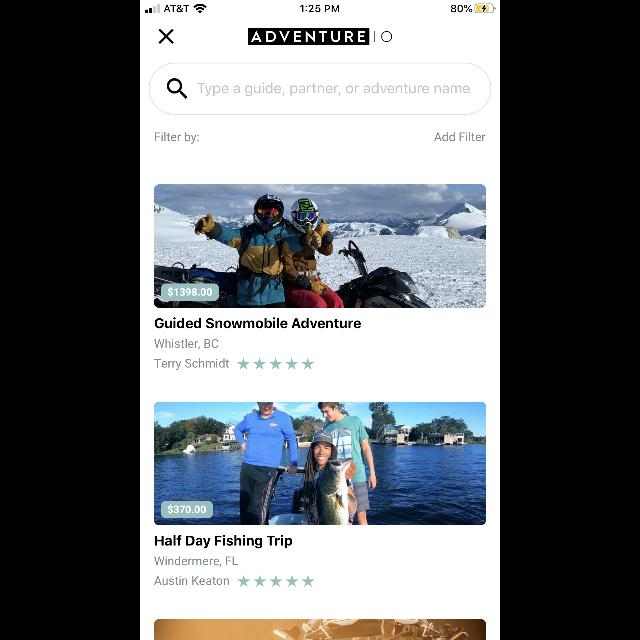icon: (238, 357, 314, 369), (238, 575, 314, 587), (166, 78, 188, 100), (158, 30, 174, 44)
image: (154, 401, 486, 525), (154, 185, 486, 308), (154, 618, 486, 640), (248, 28, 392, 46)
input: (149, 63, 491, 115)
text: (197, 83, 469, 97), (155, 317, 361, 328), (156, 535, 292, 549), (155, 358, 229, 370), (154, 556, 238, 566), (155, 338, 219, 349), (154, 576, 230, 584), (155, 132, 199, 144), (434, 132, 486, 142)
textbutton: (161, 284, 219, 300), (161, 502, 213, 518)
uppertaskbar: (140, 0, 500, 14)
